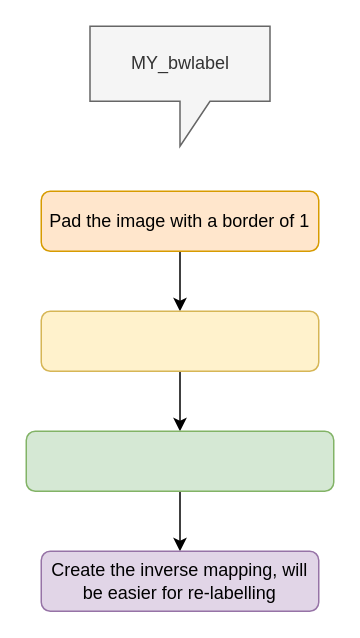
This 360x638 diagram has some shape labels left out. The centre of each missing label's shape, as x and y in pixels:
"Find neighbors and tag them" goes at [179,340].
"Restructure hashmap so that no key is a value and no values is a key" goes at [179,460].
